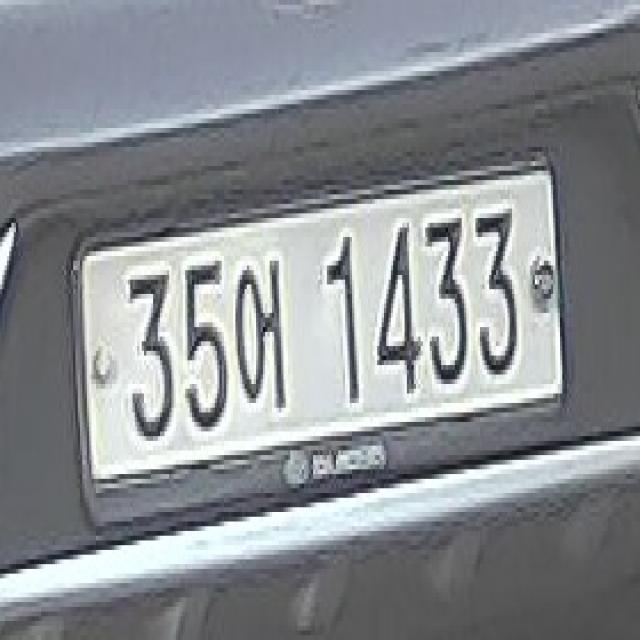1: (327, 232, 361, 403)
3: (420, 204, 471, 393), (469, 204, 521, 379), (125, 266, 173, 446)
4: (375, 218, 423, 389)
5: (183, 261, 228, 436)
eo: (235, 256, 286, 412)
license_plate: (71, 156, 564, 493)
